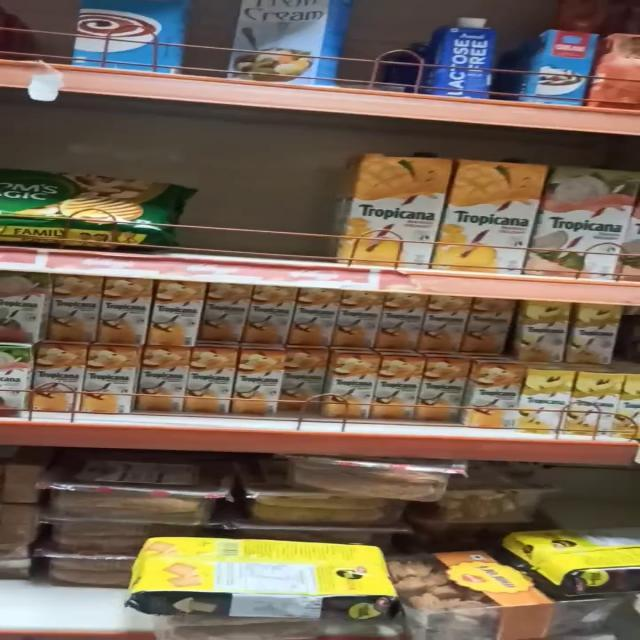Tropicana: (333, 144, 447, 266), (440, 133, 540, 268), (548, 149, 632, 281), (96, 272, 162, 346), (42, 274, 110, 344), (149, 274, 208, 348), (525, 294, 589, 359), (27, 347, 88, 412), (137, 348, 196, 411), (200, 279, 256, 343), (81, 347, 135, 412), (418, 360, 478, 415), (333, 352, 388, 412), (521, 364, 571, 429), (289, 286, 343, 346), (473, 366, 525, 428), (188, 349, 239, 412), (336, 286, 388, 346), (233, 354, 285, 412), (246, 284, 296, 344), (384, 286, 431, 348), (382, 356, 429, 416), (426, 290, 472, 350), (470, 298, 518, 354), (573, 374, 621, 430), (582, 299, 624, 362), (288, 354, 329, 408)
